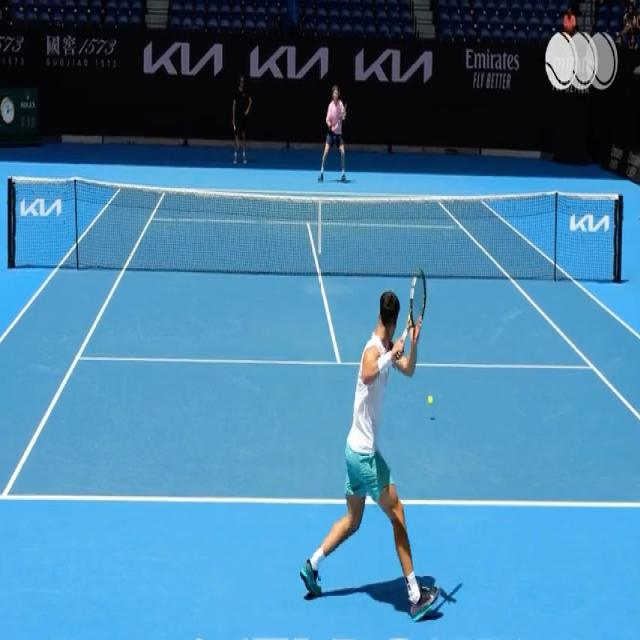forehand-ready: (301, 270, 444, 621)
